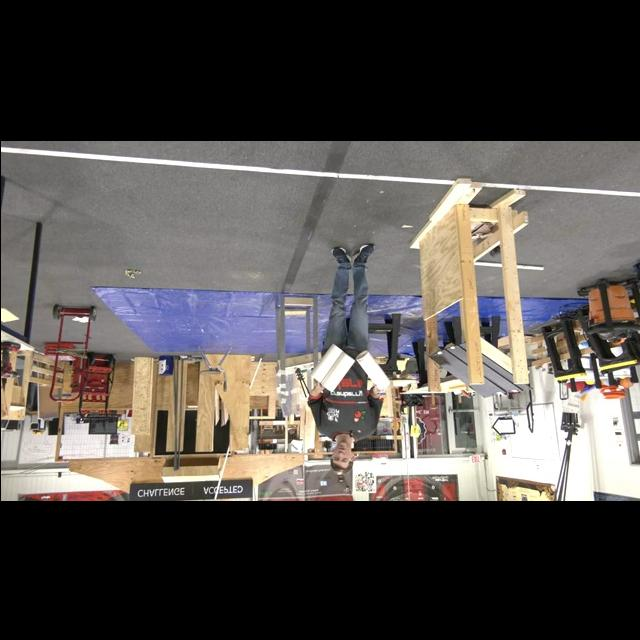CORAL: (320, 352, 354, 391), (310, 343, 342, 383), (356, 350, 388, 390)
